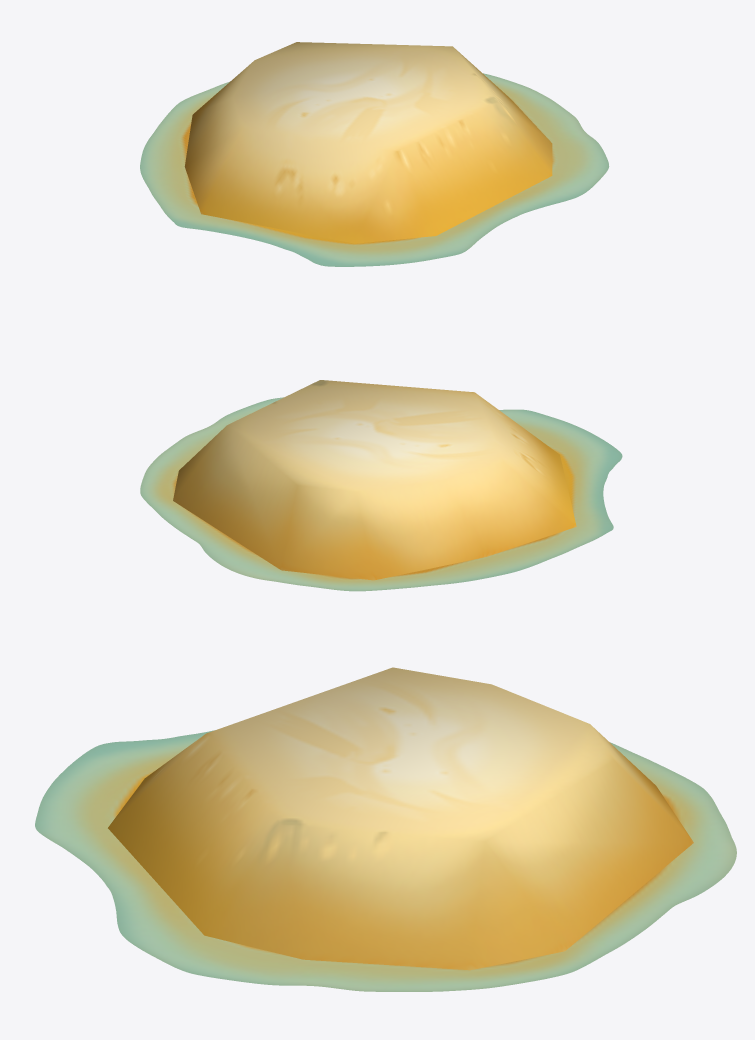
File: Chapter4Scene1Model5.FBX
3 views of the same model, one above another, from view 1: azimuth 30°, elevation 25°; view 2: azimuth 150°, elevation 25°; view 3: azimuth 270°, elevation 25° (orthographic). The views are drawn at different scales.
Parts seen in each view (by area): view 1: Chapter4Scene1Model5; view 2: Chapter4Scene1Model5; view 3: Chapter4Scene1Model5.
Boxes of the visible parts, box(x1,y1,x2,y2) form: Chapter4Scene1Model5: box(140, 42, 609, 266); Chapter4Scene1Model5: box(140, 380, 622, 591); Chapter4Scene1Model5: box(35, 667, 736, 991).
Size of the model in its own units: 97.79 by 86.31 by 11.87.
